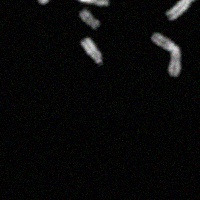chromosome: (152, 32, 181, 76), (165, 0, 200, 21), (81, 38, 103, 63), (79, 9, 101, 29), (70, 0, 110, 6), (36, 0, 59, 4)
